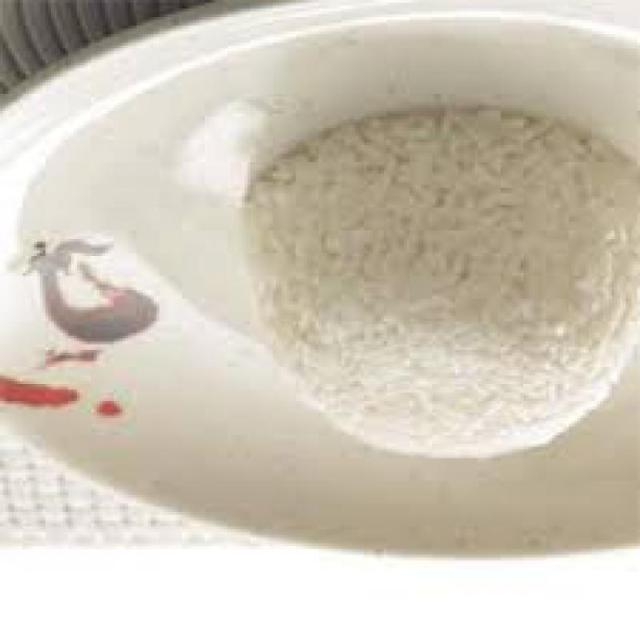nasi_putih: (239, 102, 638, 458)
